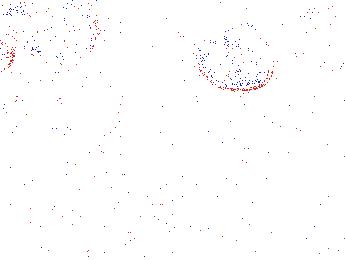moon jellyfish: (1, 1, 99, 64), (191, 20, 275, 92), (262, 1, 346, 66)
